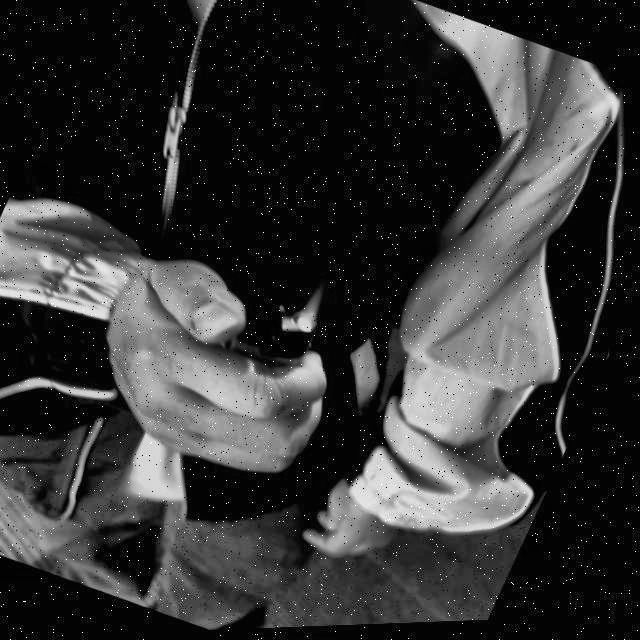Fire: (300, 275, 341, 339)
